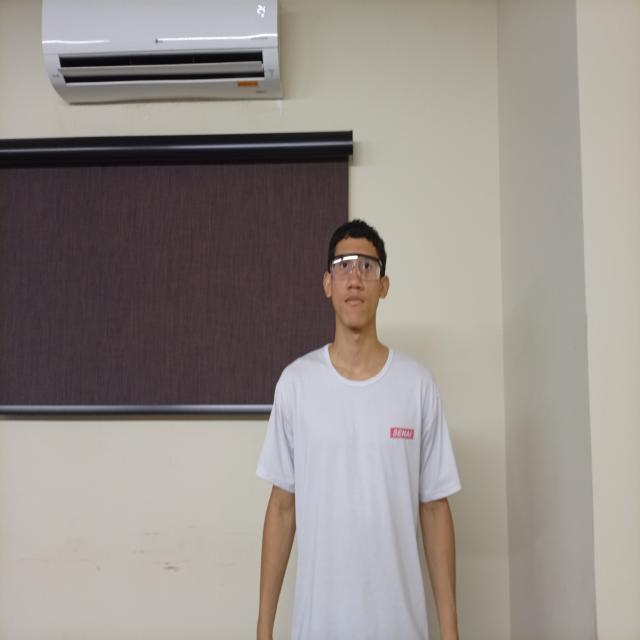oculos-epi: (327, 253, 382, 285)
